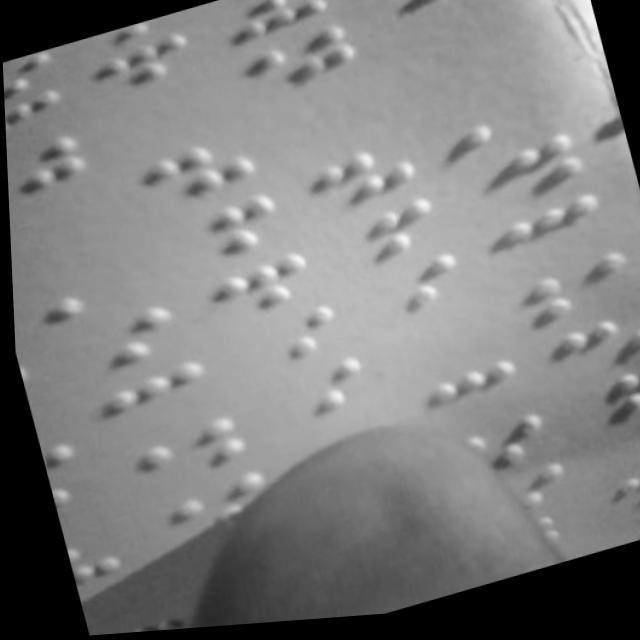braiile: (127, 129, 262, 222), (159, 189, 295, 278), (234, 21, 368, 111), (82, 22, 213, 114), (344, 253, 478, 341), (319, 196, 451, 283), (96, 356, 219, 446), (519, 251, 640, 341), (123, 414, 249, 500), (199, 248, 320, 337), (468, 134, 594, 219), (65, 299, 191, 384), (303, 139, 428, 224), (489, 196, 613, 281), (414, 358, 530, 446), (255, 352, 378, 433), (229, 302, 351, 381), (370, 0, 514, 65), (5, 130, 100, 220), (543, 310, 640, 395), (217, 0, 349, 57), (564, 366, 640, 451), (3, 85, 80, 162), (2, 44, 72, 112), (347, 0, 459, 18)
